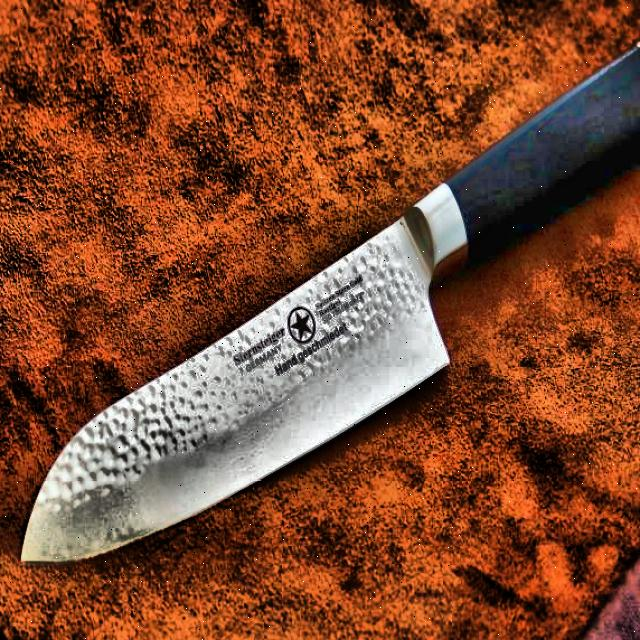knife: (14, 33, 640, 574)
